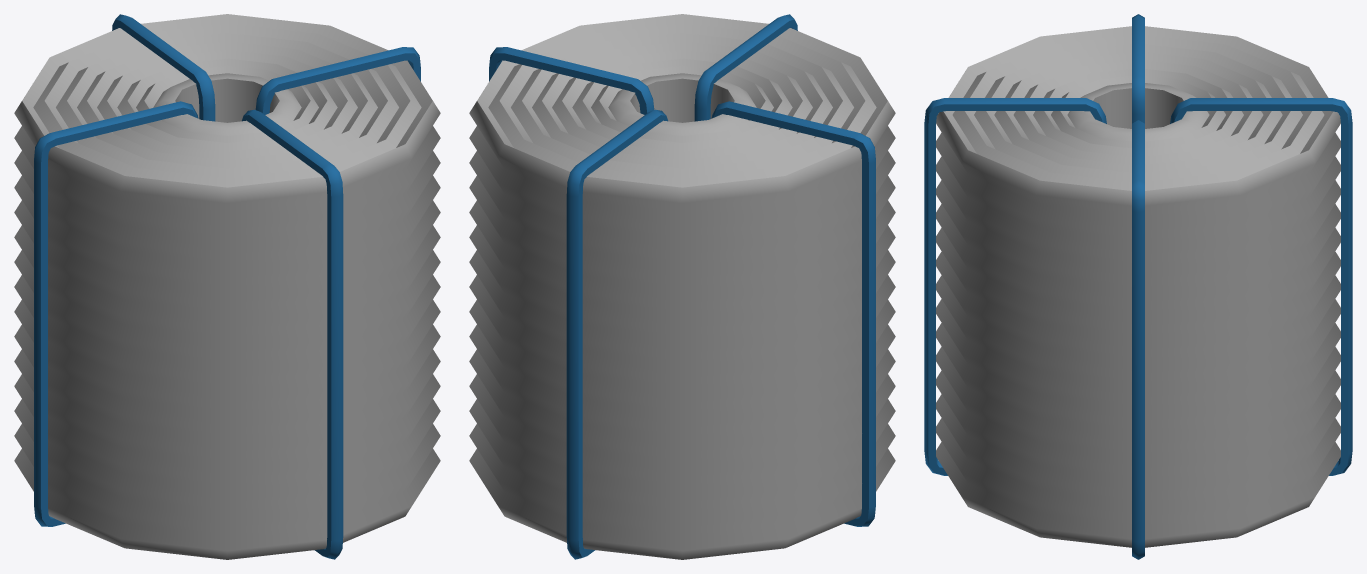
The model's file is Rolo de Corda.fbx.
3 views of the same model, side by side, from view 1: azimuth 30°, elevation 25°; view 2: azimuth 150°, elevation 25°; view 3: azimuth 270°, elevation 25° (orthographic). The views are drawn at different scales.
Parts seen in each view (by area): view 1: Rolo de Corda; view 2: Rolo de Corda; view 3: Rolo de Corda.
Boxes of the visible parts, x1,y1,x2,y2 form: Rolo de Corda: (14, 14, 440, 559); Rolo de Corda: (469, 14, 895, 559); Rolo de Corda: (924, 14, 1352, 559).
Bounding box in the file's own units: 45.89 × 44.72 × 45.89.
